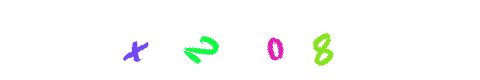2: (168, 0, 248, 80)
8: (276, 0, 356, 80)
O: (199, 0, 279, 80)
X: (162, 0, 242, 80)
